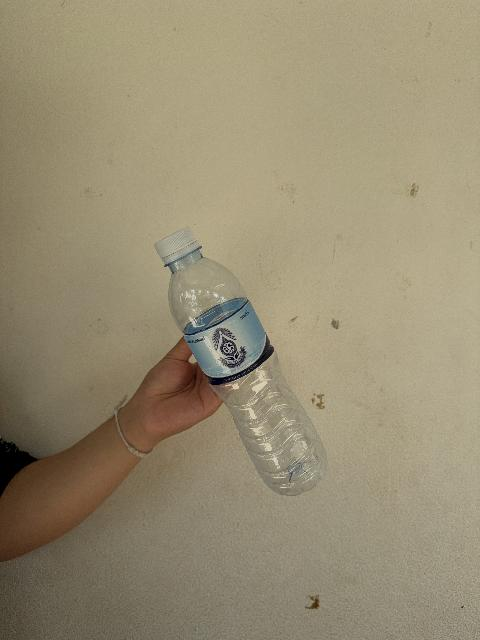bottle: (154, 228, 325, 495)
